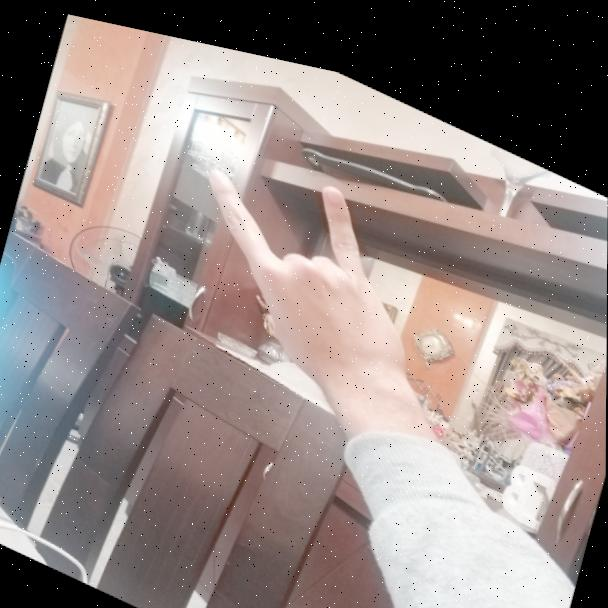five: (169, 113, 434, 409)
